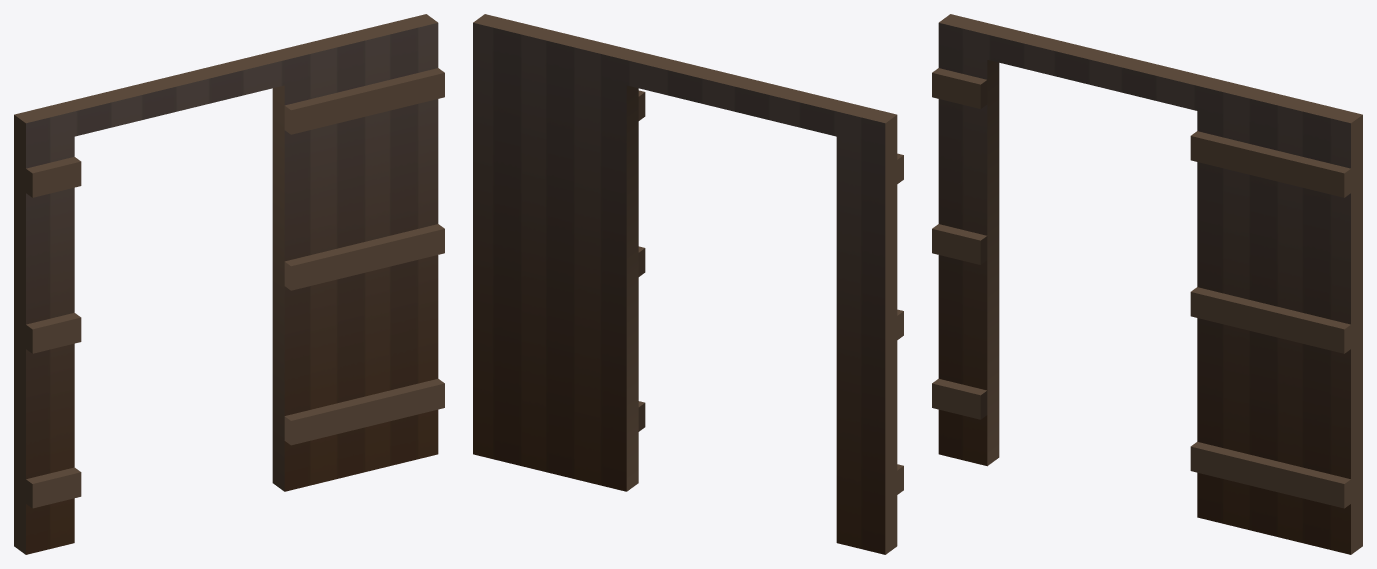
The model's file is Enviroment_DoorFrame_02.fbx.
3 views of the same model, side by side, from view 1: azimuth 30°, elevation 25°; view 2: azimuth 150°, elevation 25°; view 3: azimuth 330°, elevation 25° (orthographic).
Parts seen in each view (by area): view 1: Environment_DoorFrame_02_Mesh; view 2: Environment_DoorFrame_02_Mesh; view 3: Environment_DoorFrame_02_Mesh.
Part boxes in pixels (left/top/right/bottom): Environment_DoorFrame_02_Mesh: left=14, top=14, right=444, bottom=554; Environment_DoorFrame_02_Mesh: left=473, top=14, right=903, bottom=554; Environment_DoorFrame_02_Mesh: left=932, top=14, right=1362, bottom=554.
Size of the model in its own units: 200 by 200 by 15.51.
